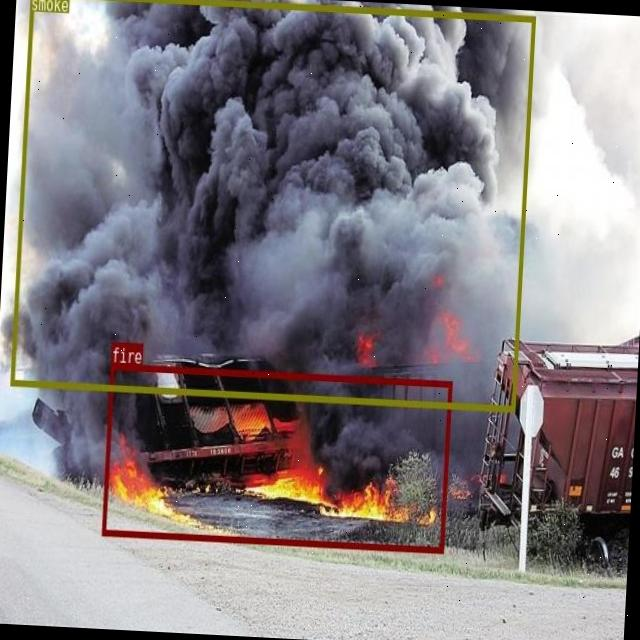fire: (101, 362, 452, 553)
smoke: (9, 0, 535, 411)
